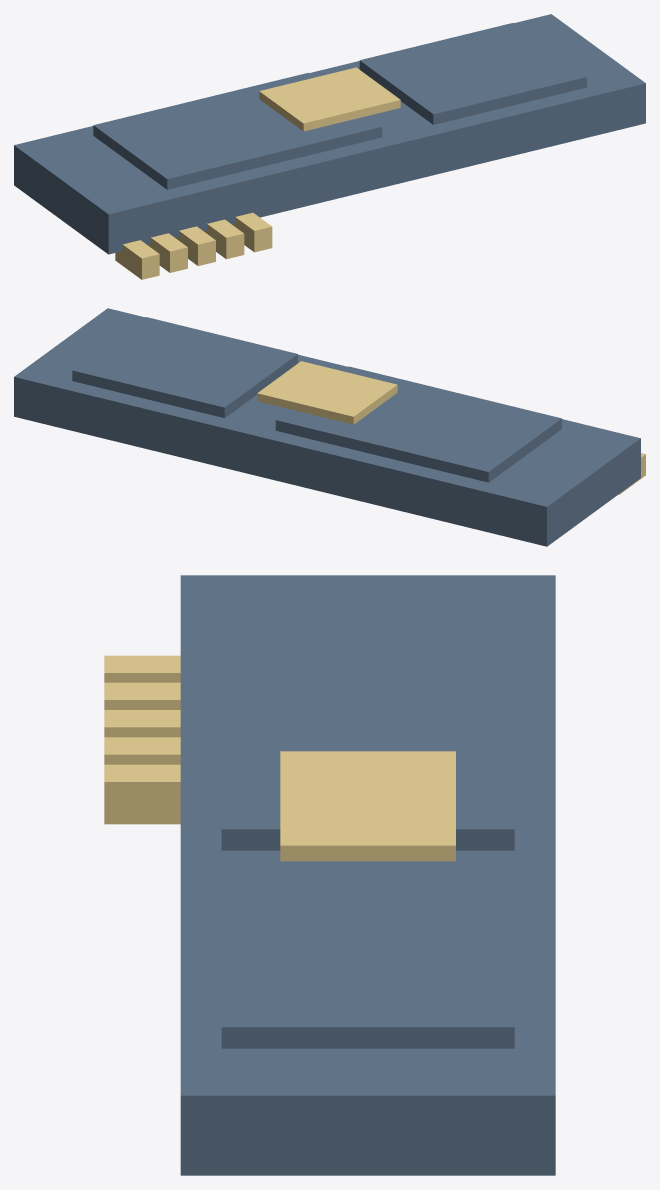
File: ssd.gltf
3 views of the same model, one above another, from view 1: azimuth 30°, elevation 25°; view 2: azimuth 150°, elevation 25°; view 3: azimuth 270°, elevation 25° (orthographic). The views are drawn at different scales.
Visible parts, largest first — view 1: Parte_1, Parte_2, Parte_3, Parte_4, Parte_5, Parte_6, Parte_8, Parte_9, Parte_7; view 2: Parte_1, Parte_2, Parte_3, Parte_4; view 3: Parte_1, Parte_2, Parte_3, Parte_4, Parte_9, Parte_5, Parte_6, Parte_7, Parte_8.
Boxes of the visible parts, x1,y1,x2,y2 form: Parte_1: [14, 14, 645, 254]; Parte_2: [93, 72, 382, 189]; Parte_3: [359, 23, 586, 124]; Parte_4: [259, 67, 400, 131]; Parte_5: [115, 240, 159, 279]; Parte_6: [147, 233, 187, 272]; Parte_8: [204, 219, 244, 259]; Parte_9: [232, 212, 272, 252]; Parte_7: [176, 226, 215, 265]; Parte_1: [14, 308, 640, 546]; Parte_2: [275, 366, 561, 482]; Parte_3: [72, 317, 297, 418]; Parte_4: [257, 361, 397, 424]; Parte_1: [180, 575, 555, 1175]; Parte_2: [221, 621, 514, 850]; Parte_3: [221, 878, 514, 1048]; Parte_4: [280, 751, 455, 861]; Parte_9: [104, 764, 180, 824]; Parte_5: [104, 655, 180, 682]; Parte_6: [104, 682, 180, 709]; Parte_7: [104, 710, 180, 737]; Parte_8: [104, 737, 180, 764].
Size of the model in its own units: 1.05 by 0.1375 by 0.385.
